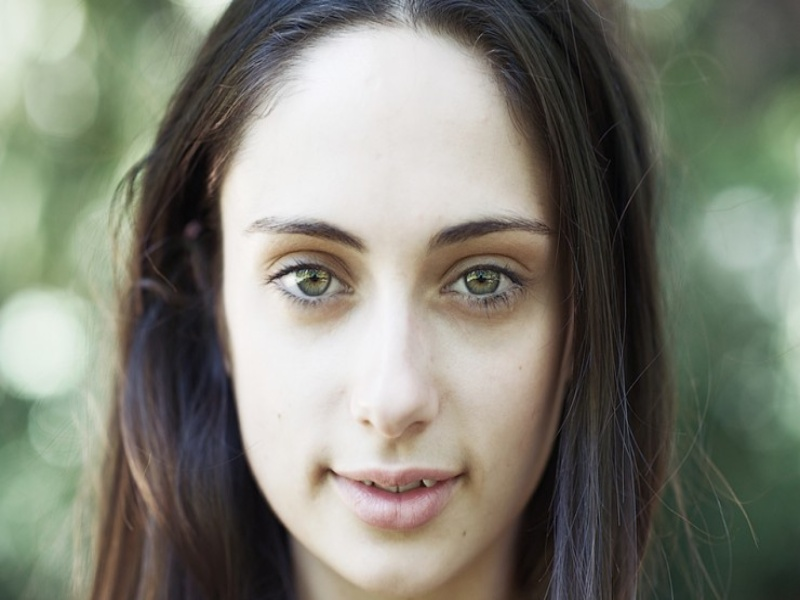face: (234, 102, 568, 548)
